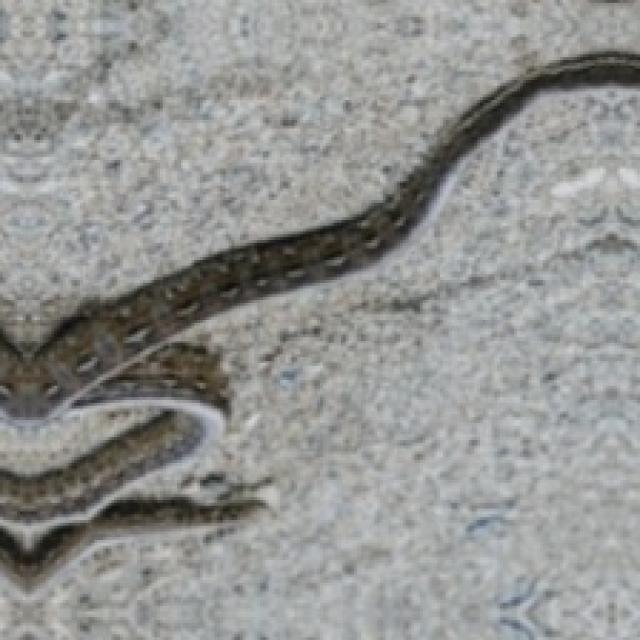reticulated python: (0, 57, 640, 599)
